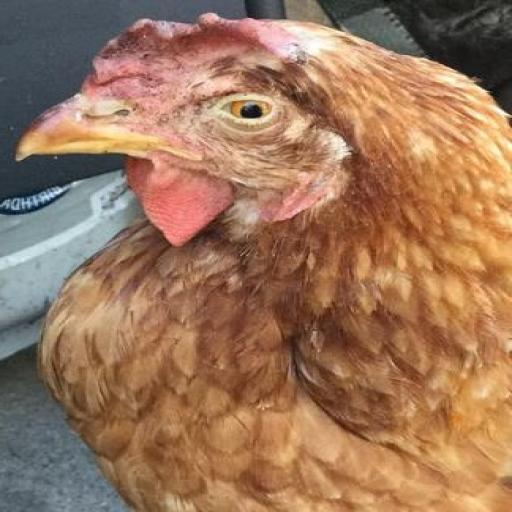disease: (170, 88, 348, 192), (85, 4, 293, 83)
